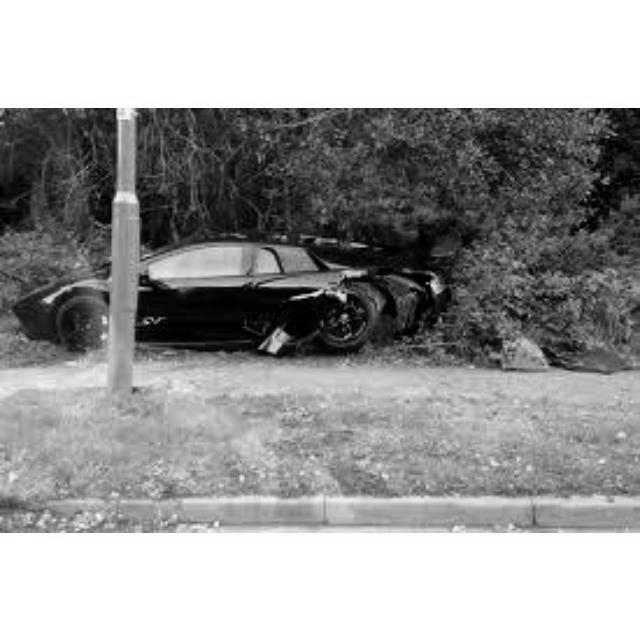quaterpanel-dent: (338, 268, 431, 307)
